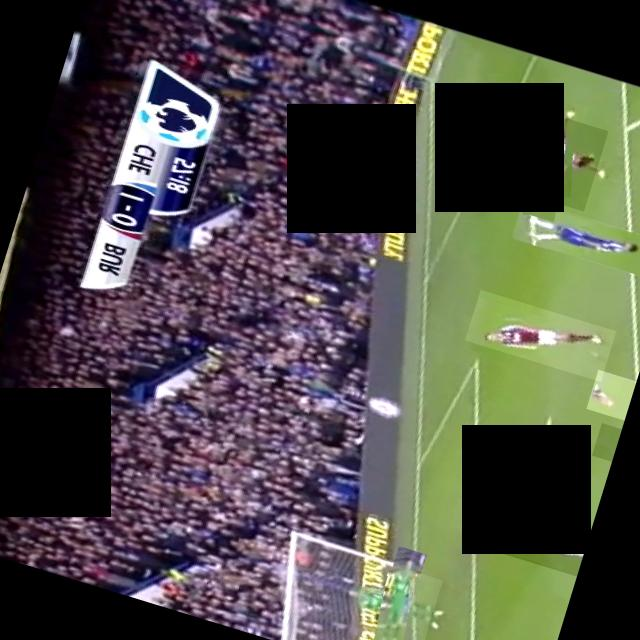goalkeeper: (347, 557, 442, 640)
soccer-player: (465, 288, 616, 381), (504, 106, 608, 210), (511, 197, 640, 276), (478, 505, 589, 575), (586, 368, 636, 419), (592, 422, 622, 461)
